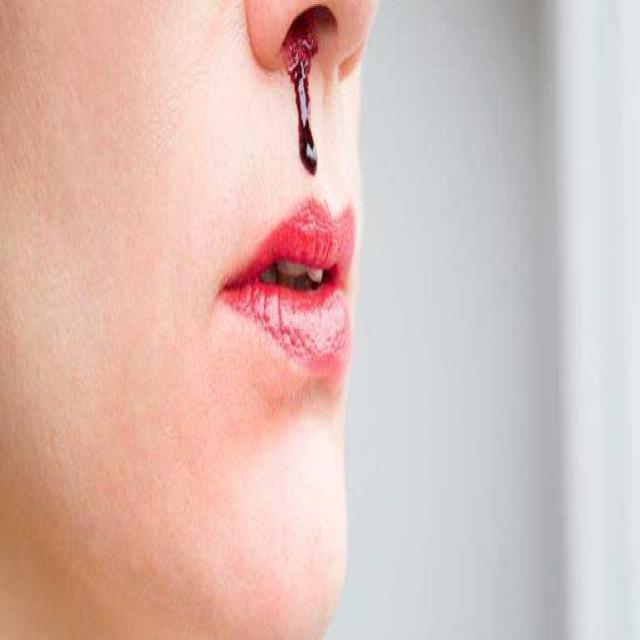flood: (288, 32, 318, 176)
